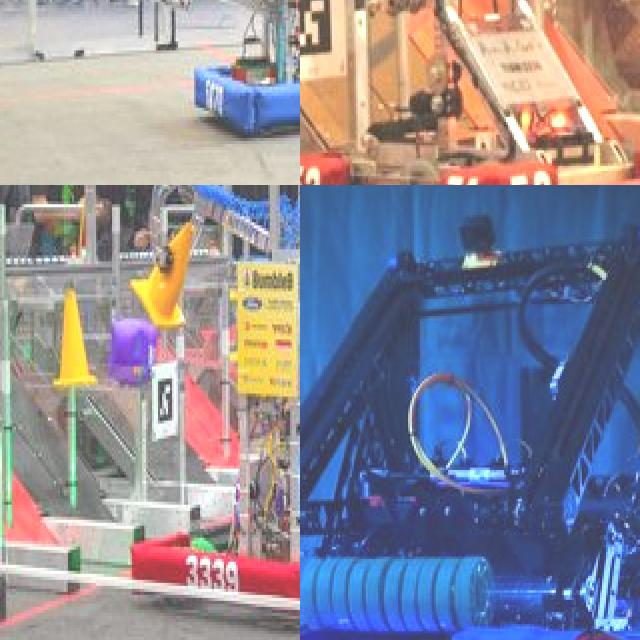FRC-Robots: (300, 216, 640, 640), (117, 185, 300, 628), (300, 0, 640, 185), (84, 0, 300, 149)
